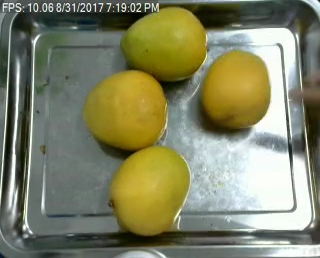Mango: (112, 146, 190, 236), (84, 70, 164, 147), (122, 8, 203, 76), (201, 50, 270, 127)
